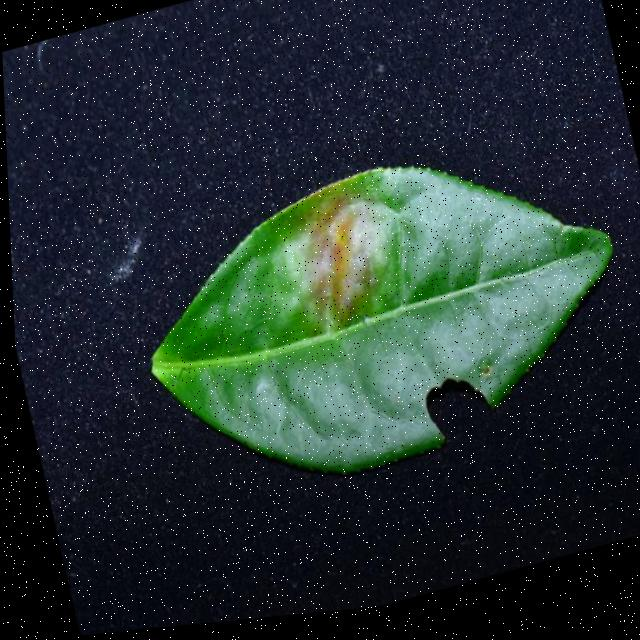Tea exobasidium blight: (289, 178, 402, 329)
